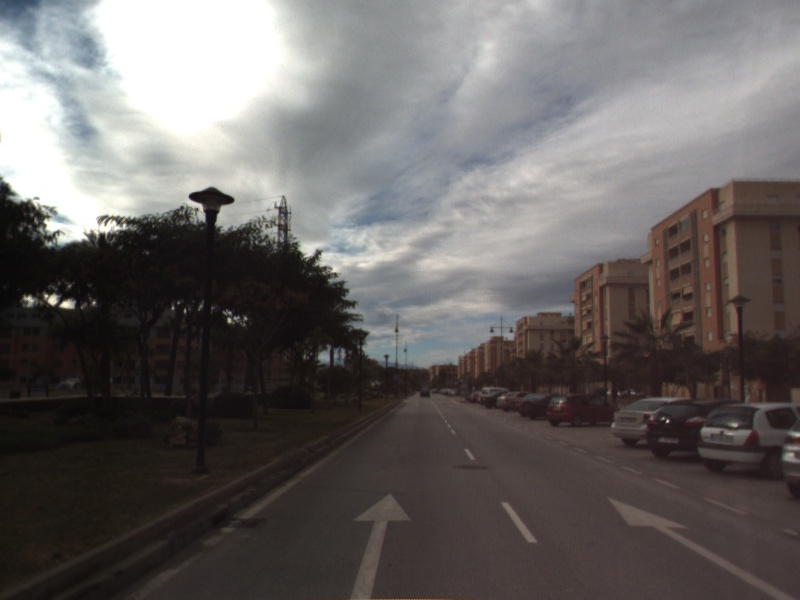STRAIGHT: (607, 495, 799, 600), (347, 491, 414, 600)
